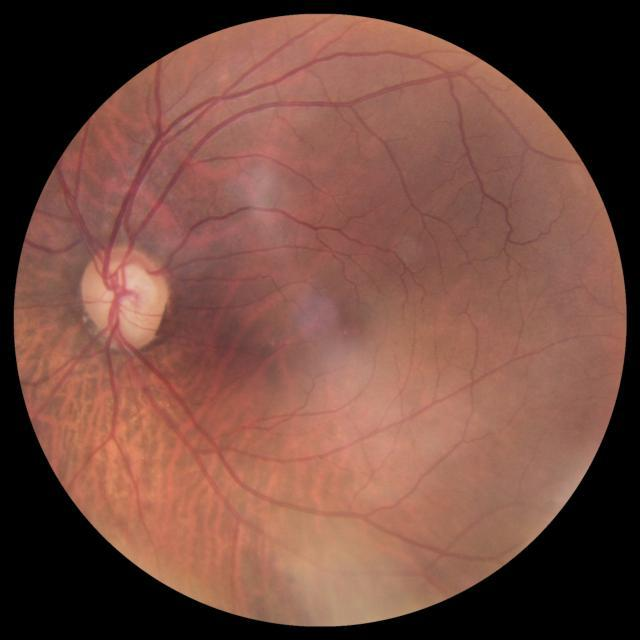OC: (104, 263, 155, 318)
OD: (78, 242, 166, 345)
